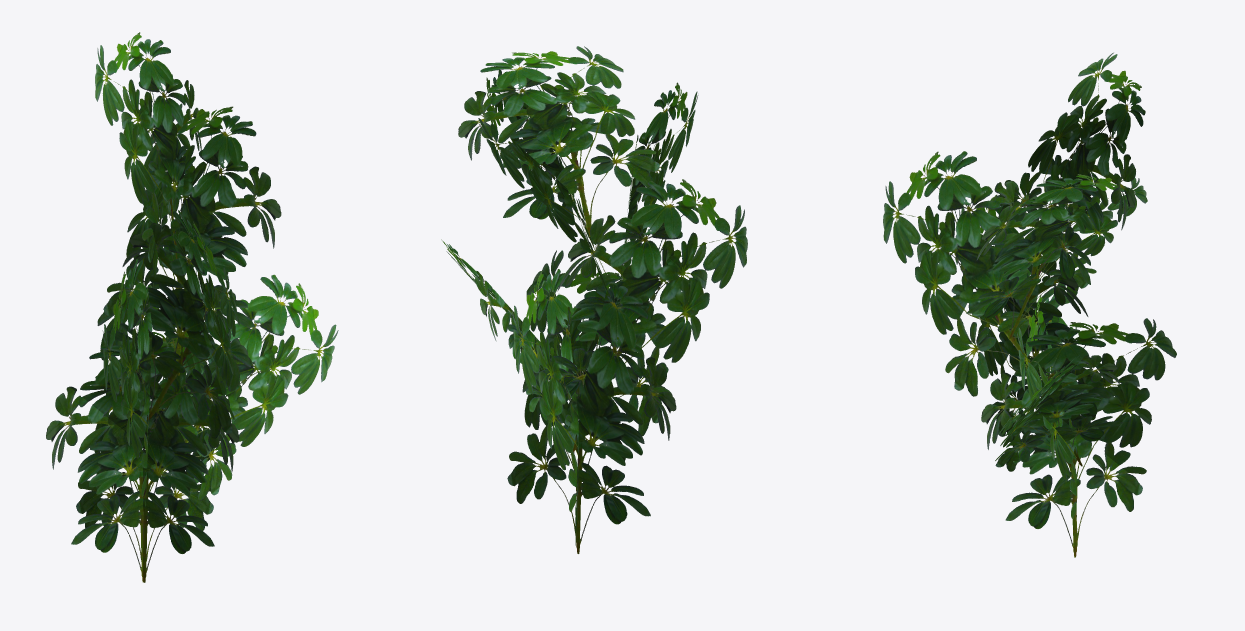
Rendered from obj__trops1.obj.
3 views of the same model, side by side, from view 1: azimuth 30°, elevation 25°; view 2: azimuth 150°, elevation 25°; view 3: azimuth 270°, elevation 25° (orthographic). The views are drawn at different scales.
Visible parts, largest first — view 1: trops1.tga; view 2: trops1.tga; view 3: trops1.tga.
Part boxes in pixels (x1,y1,x2,y2): trops1.tga: (46, 32, 338, 582); trops1.tga: (441, 46, 747, 553); trops1.tga: (883, 52, 1176, 557).
Size of the model in its own units: 62.02 by 97.82 by 69.15.
Materials: 1 (1 with a texture image).
